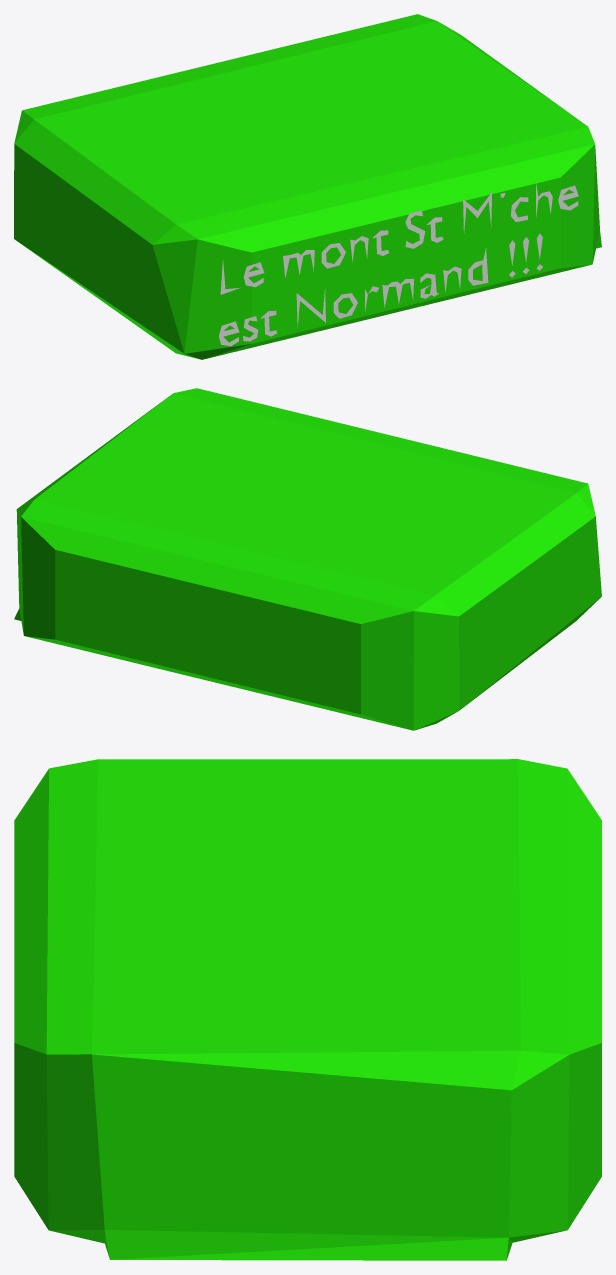
The model's file is message9.fbx.
The picture shows the model from 3 angles, top to bottom: view 1: azimuth 30°, elevation 25°; view 2: azimuth 150°, elevation 25°; view 3: azimuth 270°, elevation 25°; orthographic projection. The views are drawn at different scales.
Parts seen in each view (by area): view 1: Cube; view 2: Cube; view 3: Cube.
Boxes of the visible parts, x1,y1,x2,y2 form: Cube: (14, 14, 601, 359); Cube: (14, 388, 601, 730); Cube: (14, 759, 601, 1260).
Bounding box in the file's own units: 261 × 72.45 × 200.
